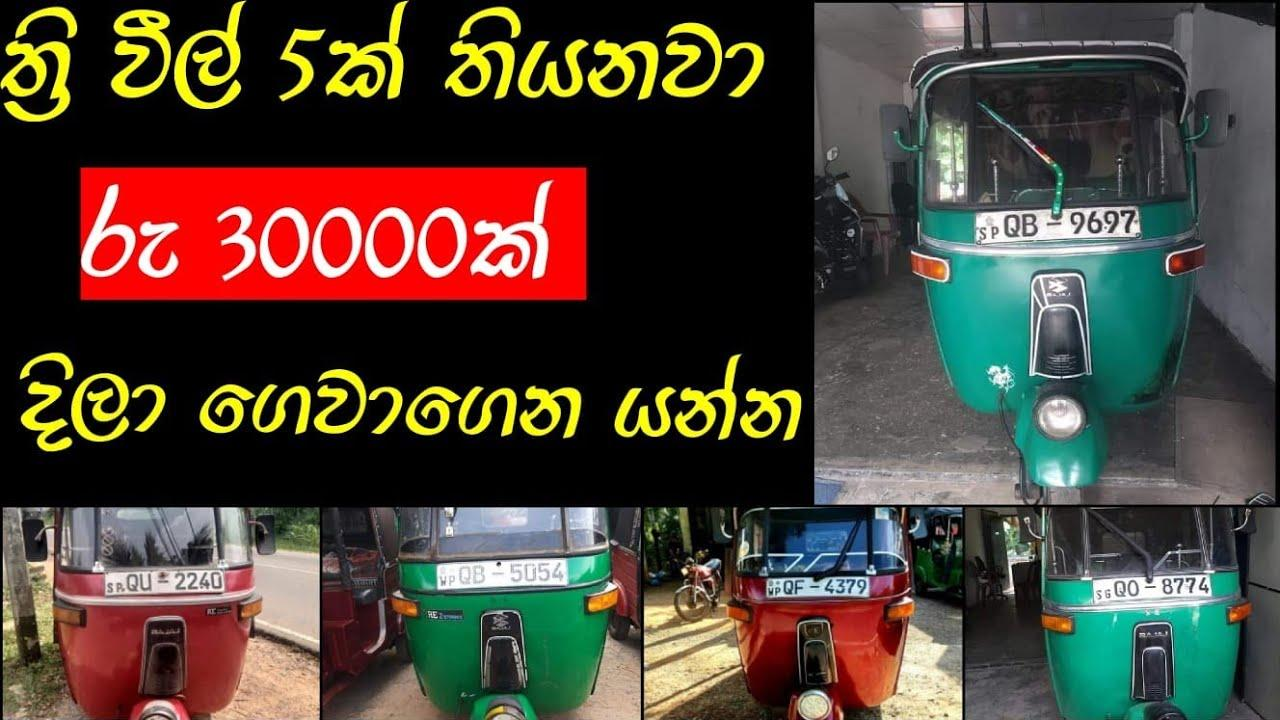motorbike: (673, 550, 722, 623)
threewheel: (879, 37, 1234, 506), (21, 508, 277, 720), (1017, 510, 1252, 720), (387, 508, 618, 720), (726, 513, 923, 720)
